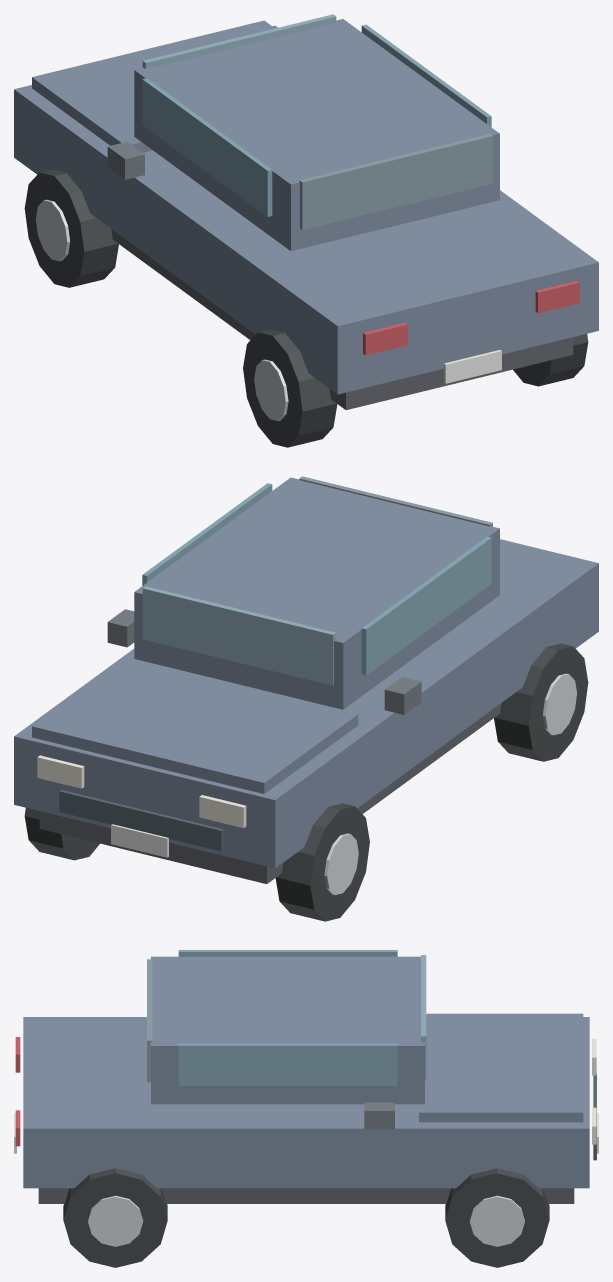
File: fiesta.glb
3 views of the same model, one above another, from view 1: azimuth 30°, elevation 25°; view 2: azimuth 150°, elevation 25°; view 3: azimuth 270°, elevation 25° (orthographic). The views are drawn at different scales.
Visible parts, largest first — view 1: body_0001, roof_0018, rear_window_0020, hood_0002, side_window_0021, wheel_tire_0006, wheel_tire_0004, chassis_0000, windshield_0019, wheel_tire_0013, wheel_rim_0007, wheel_rim_0005 (+5 smaller); view 2: body_0001, roof_0018, hood_0002, windshield_0019, side_window_0021, wheel_tire_0004, wheel_tire_0006, chassis_0000, front_grille_0003, wheel_tire_0011, wheel_rim_0005, wheel_rim_0007 (+7 smaller); view 3: body_0001, roof_0018, hood_0002, side_window_0022, wheel_tire_0011, wheel_tire_0013, chassis_0000, wheel_rim_0012, wheel_rim_0014, side_window_0021, mirror_0017, rear_window_0020 (+1 smaller).
Part boxes in pixels (x1,y1,x2,y2): body_0001: (14, 25, 598, 394); roof_0018: (134, 19, 499, 250); rear_window_0020: (299, 134, 492, 229); hood_0002: (32, 20, 274, 152); side_window_0021: (142, 78, 272, 216); wheel_tire_0006: (243, 329, 337, 447); wheel_tire_0004: (24, 169, 118, 287); chassis_0000: (111, 229, 573, 410); windshield_0019: (142, 14, 336, 69); wheel_tire_0013: (513, 334, 588, 386); wheel_rim_0007: (254, 359, 288, 421); wheel_rim_0005: (36, 199, 70, 261); body_0001: (14, 539, 598, 868); roof_0018: (134, 477, 499, 709); hood_0002: (32, 657, 358, 793); windshield_0019: (142, 586, 336, 685); side_window_0021: (361, 536, 491, 675); wheel_tire_0004: (275, 803, 369, 921); wheel_tire_0006: (494, 643, 588, 761); chassis_0000: (39, 703, 501, 883); front_grille_0003: (59, 790, 223, 851); wheel_tire_0011: (24, 808, 99, 860); wheel_rim_0005: (324, 833, 358, 894); wheel_rim_0007: (542, 673, 576, 735); body_0001: (23, 1017, 589, 1188); roof_0018: (151, 956, 424, 1104); hood_0002: (419, 1013, 583, 1122); side_window_0022: (178, 1043, 397, 1085); wheel_tire_0011: (445, 1168, 549, 1267); wheel_tire_0013: (63, 1168, 167, 1267); chassis_0000: (38, 1188, 574, 1203); wheel_rim_0012: (469, 1195, 524, 1246); wheel_rim_0014: (88, 1195, 143, 1246); side_window_0021: (178, 950, 397, 956); mirror_0017: (364, 1102, 394, 1129); rear_window_0020: (147, 959, 152, 1082).
Size of the model in its own units: 1.95 by 1.52 by 3.82.
